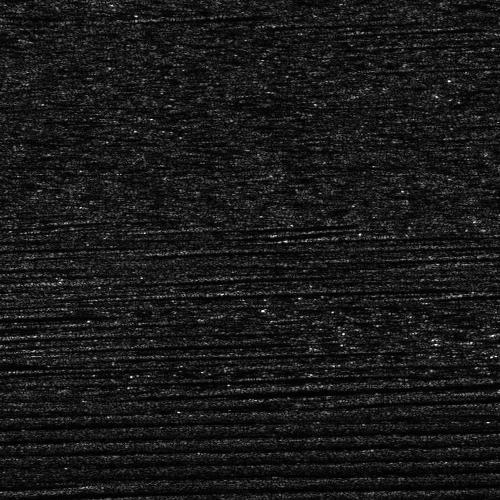shadow: (0, 360, 44, 369)
